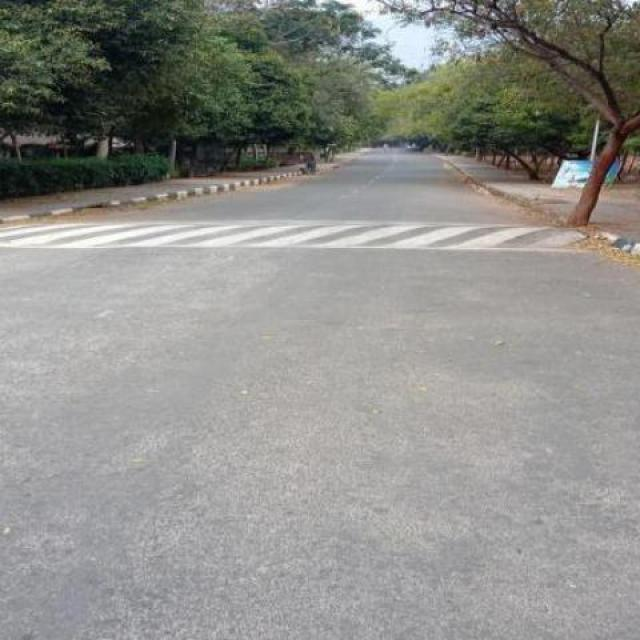Speed Bump: (1, 222, 608, 249)
